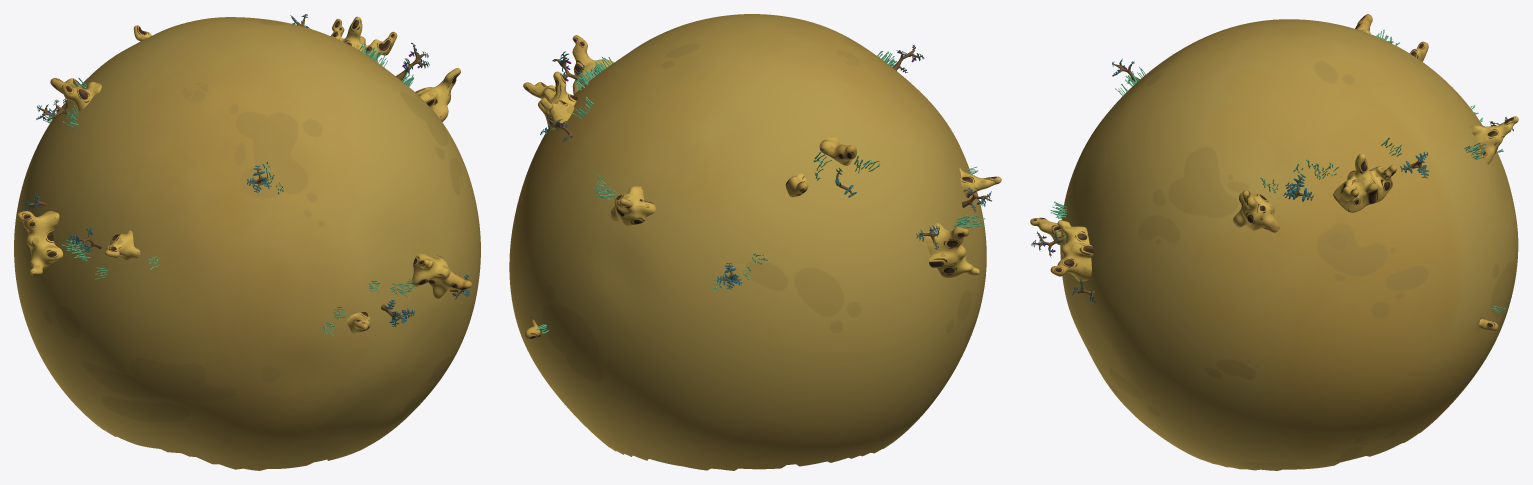
Rendered from planet_ant_iteration_1.gltf.
3 renders of one model, left to right at view 1: azimuth 30°, elevation 25°; view 2: azimuth 150°, elevation 25°; view 3: azimuth 270°, elevation 25°, orthographic. The views are drawn at different scales.
Parts seen in each view (by area): view 1: Cube.005; view 2: Cube.005; view 3: Cube.005.
Boxes of the visible parts, left/top/right/bottom form: Cube.005: left=14, top=14, right=480, bottom=470; Cube.005: left=509, top=14, right=1001, bottom=470; Cube.005: left=1030, top=14, right=1518, bottom=470.
Bounding box in the file's own units: 13.49 × 11.84 × 13.82.
6 materials, 6 textured.
